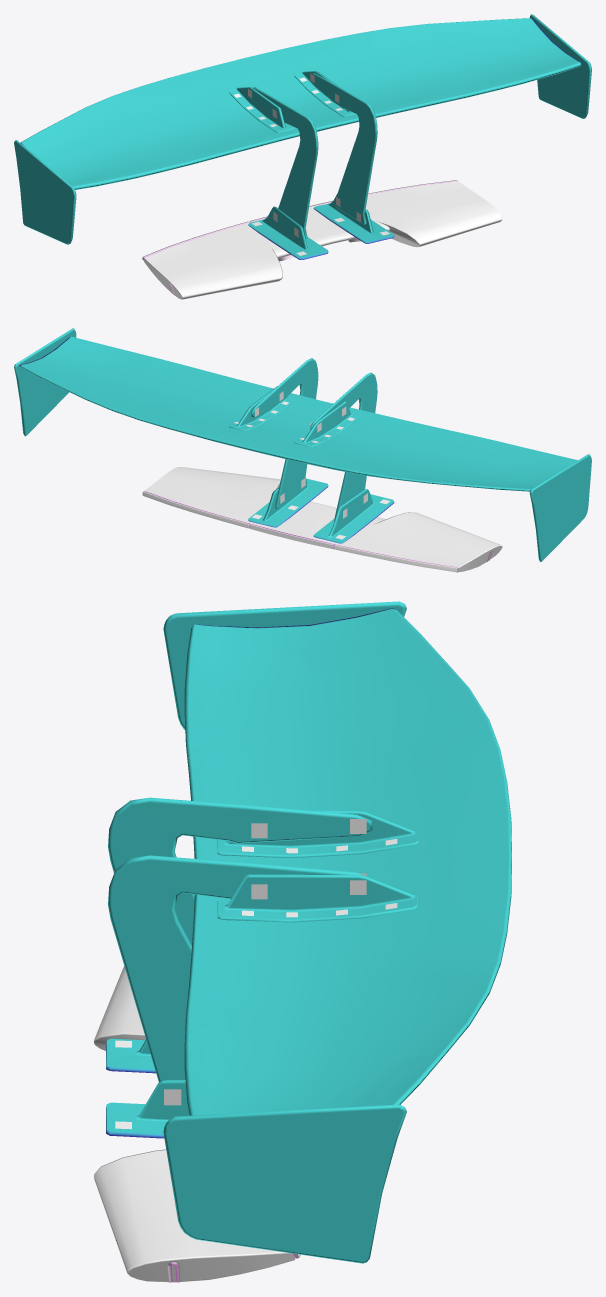
File: Car_Ford_GT_2017_Spoiler_SetDE.fbx
The picture shows the model from 3 angles, top to bottom: view 1: azimuth 30°, elevation 25°; view 2: azimuth 150°, elevation 25°; view 3: azimuth 270°, elevation 25°; orthographic projection. The views are drawn at different scales.
Visible parts, largest first — view 1: Spoiler 6; view 2: Spoiler 6; view 3: Spoiler 6.
Part boxes in pixels (bbox=[...]): Spoiler 6: bbox=[14, 14, 591, 299]; Spoiler 6: bbox=[14, 328, 591, 572]; Spoiler 6: bbox=[94, 601, 511, 1282].
Size of the model in its own units: 1.82 by 0.5153 by 0.6361.
